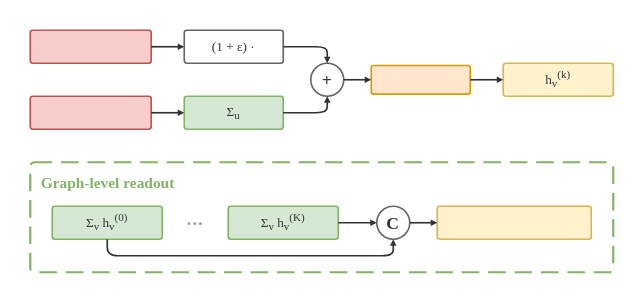
The diagram is 642 pixels wide and 301 high, and some of its shapes have lost their labels. The shapes that lost their labels are listed below. From the top down, each one's centre as x and y in pixels, then its label:
the point at 90,46: h v (k-1)
the point at 420,79: MLP
the point at 90,112: h u , u ∈ N(v)
the point at 514,222: Graph embedding h G
